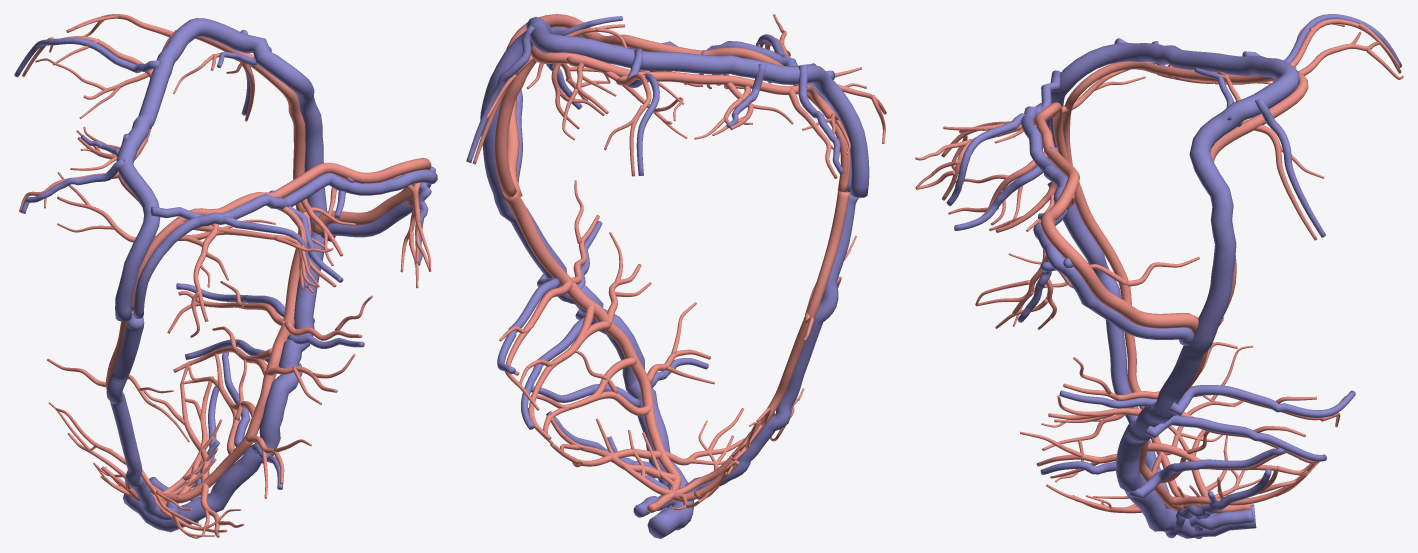
Rendered from vessels_0.glb.
3 renders of one model, left to right at view 1: azimuth 30°, elevation 25°; view 2: azimuth 150°, elevation 25°; view 3: azimuth 270°, elevation 25°, orthographic. The views are drawn at different scales.
Parts seen in each view (by area): view 1: Renderer Node; view 2: Renderer Node; view 3: Renderer Node.
Part boxes in pixels (box(x1,y1,x2,y2)): Renderer Node: box(14, 14, 437, 538); Renderer Node: box(466, 14, 886, 538); Renderer Node: box(915, 14, 1403, 538).
Bounding box in the file's own units: 99.19 × 122 × 106.
